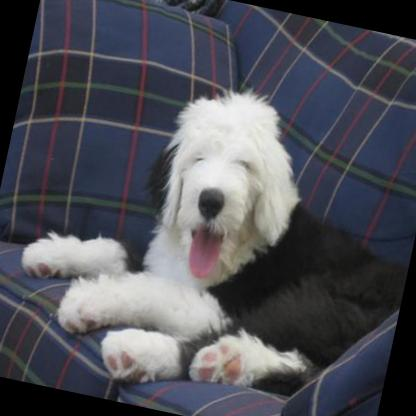Old_English_sheepdog: (0, 54, 416, 416)
